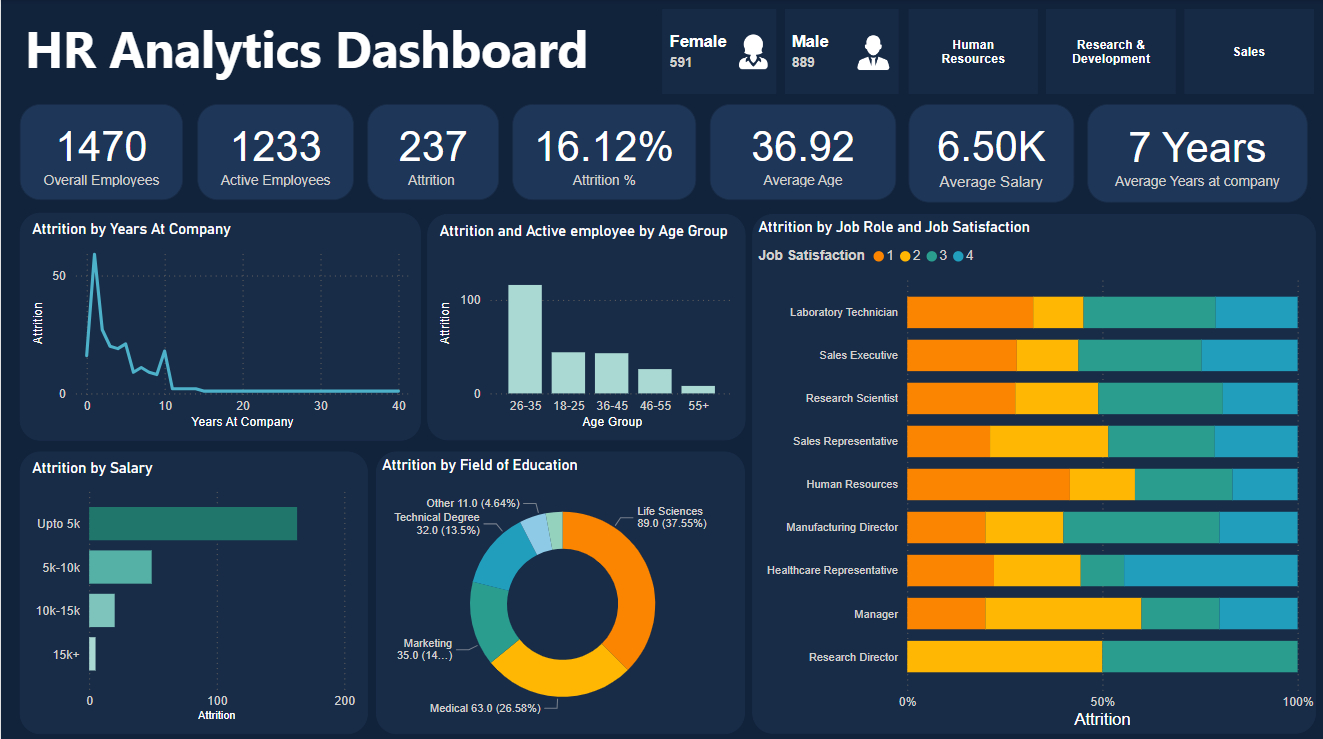

Layout of this report page (visuals, bound fields, positions):
{"tool":"powerbi","page":{"name":"Page 1","canvas":[1280,720],"ordinal":0},"visuals":[{"type":"advancedSlicerVisual","fields":{"Values":["HR_Analytics.Gender"]},"box":[638.8,10,228.8,82.5],"z":0},{"type":"image","box":[820,27.5,43.8,47.5],"z":1000},{"type":"image","box":[704.6,27.7,43.4,47.1],"z":2000},{"type":"card","fields":{"Values":["HR_Analytics.total emp"]},"box":[17.5,101.2,157.5,92.5],"z":3000},{"type":"card","fields":{"Values":["HR_Analytics.emp_attr"]},"box":[353.8,101.2,127.5,92.5],"z":4000},{"type":"card","fields":{"Values":["HR_Analytics.avg_sal"]},"box":[876.2,101.2,160,95],"z":5000},{"type":"card","fields":{"Values":["HR_Analytics.yr_text"]},"box":[1048.8,101.2,212.5,95],"z":6000},{"type":"card","fields":{"Values":["HR_Analytics.attr%"]},"box":[493.8,101.2,177.5,92.5],"z":7000},{"type":"card","fields":{"Values":["HR_Analytics.avg_age"]},"box":[683.8,101.2,180,92.5],"z":8000},{"type":"advancedSlicerVisual","fields":{"Values":["HR_Analytics.Department"]},"box":[876.2,10,392.5,82.5],"z":9000},{"type":"barChart","title":"Attrition  by Salary","fields":{"Y":["HR_Analytics.emp_attr"],"Category":["HR_Analytics.SalarySlab"]},"box":[17.5,436.2,336.2,272.5],"z":10000},{"type":"columnChart","title":"Attrition and Active employee by Age Group","fields":{"Category":["HR_Analytics.AgeGroup"],"Y":["HR_Analytics.emp_attr"]},"box":[411.2,207.5,307.5,218.8],"z":11000},{"type":"donutChart","title":"Attrition by Field of Education ","fields":{"Y":["HR_Analytics.emp_attr"],"Category":["HR_Analytics.EducationField"]},"box":[362.5,436.2,356,272.5],"z":12000},{"type":"hundredPercentStackedBarChart","title":"Attrition by Job Role and Job Satisfaction","fields":{"Category":["HR_Analytics.JobRole"],"Y":["HR_Analytics.emp_attr"],"Series":["HR_Analytics.JobSatisfaction"]},"box":[725,207.5,543.8,501.2],"z":13000},{"type":"card","fields":{"Values":["HR_Analytics.active_emp"]},"box":[190,101.2,151.2,92.5],"z":14000},{"type":"lineChart","title":"Attrition by Years At Company","fields":{"Y":["HR_Analytics.emp_attr"],"Category":["HR_Analytics.YearsAtCompany"]},"box":[17.5,206.2,387.5,220],"z":15000},{"type":"textbox","box":[17.5,10,612.5,82.5],"z":16000}]}

Visuals, with their boxes in screenshot pixels (x1, y1, x2, y2), scaled from the page's 1280x720 canvas onto the 1323x739 screenshot:
advancedSlicerVisual - HR_Analytics.Gender: x1=660 y1=10 x2=897 y2=95
image: x1=848 y1=28 x2=893 y2=77
image: x1=728 y1=28 x2=773 y2=77
card - HR_Analytics.total emp: x1=18 y1=104 x2=181 y2=199
card - HR_Analytics.emp_attr: x1=366 y1=104 x2=497 y2=199
card - HR_Analytics.avg_sal: x1=906 y1=104 x2=1071 y2=201
card - HR_Analytics.yr_text: x1=1084 y1=104 x2=1304 y2=201
card - HR_Analytics.attr%: x1=510 y1=104 x2=694 y2=199
card - HR_Analytics.avg_age: x1=707 y1=104 x2=893 y2=199
advancedSlicerVisual - HR_Analytics.Department: x1=906 y1=10 x2=1311 y2=95
"Attrition  by Salary" barChart: x1=18 y1=448 x2=366 y2=727
"Attrition and Active employee by Age Group" columnChart: x1=425 y1=213 x2=743 y2=438
"Attrition by Field of Education " donutChart: x1=375 y1=448 x2=743 y2=727
"Attrition by Job Role and Job Satisfaction" hundredPercentStackedBarChart: x1=749 y1=213 x2=1311 y2=727
card - HR_Analytics.active_emp: x1=196 y1=104 x2=353 y2=199
"Attrition by Years At Company" lineChart: x1=18 y1=212 x2=419 y2=437
textbox: x1=18 y1=10 x2=651 y2=95
